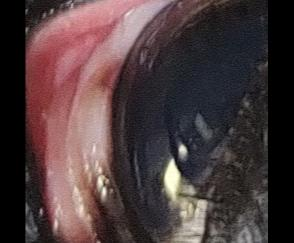eye_membrane: (27, 0, 175, 243)
